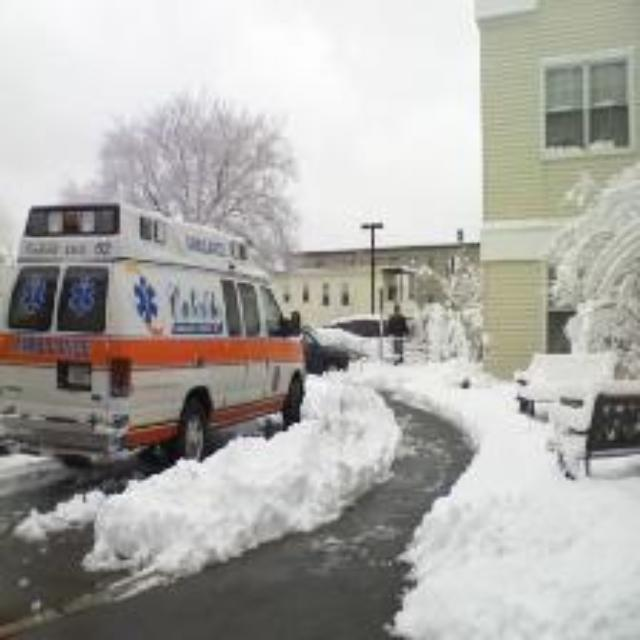emergency: (10, 180, 310, 472)
